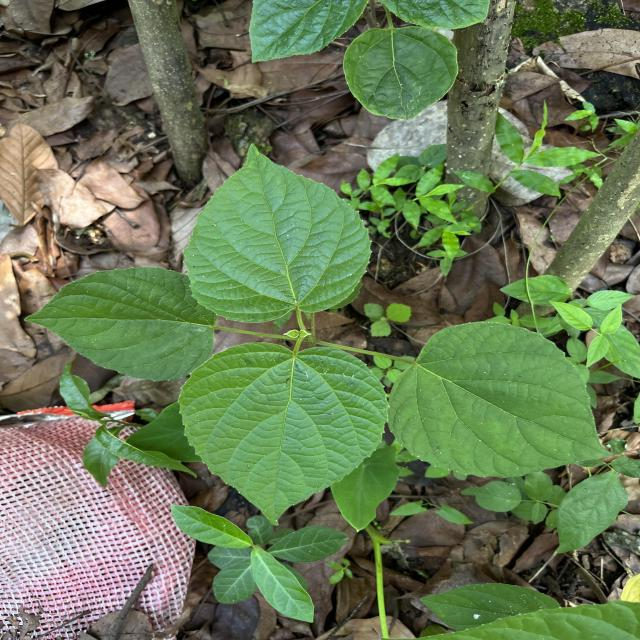Clerodendrum infortunatum: (176, 340, 390, 528), (386, 320, 614, 480), (180, 142, 373, 324), (22, 266, 218, 384)
